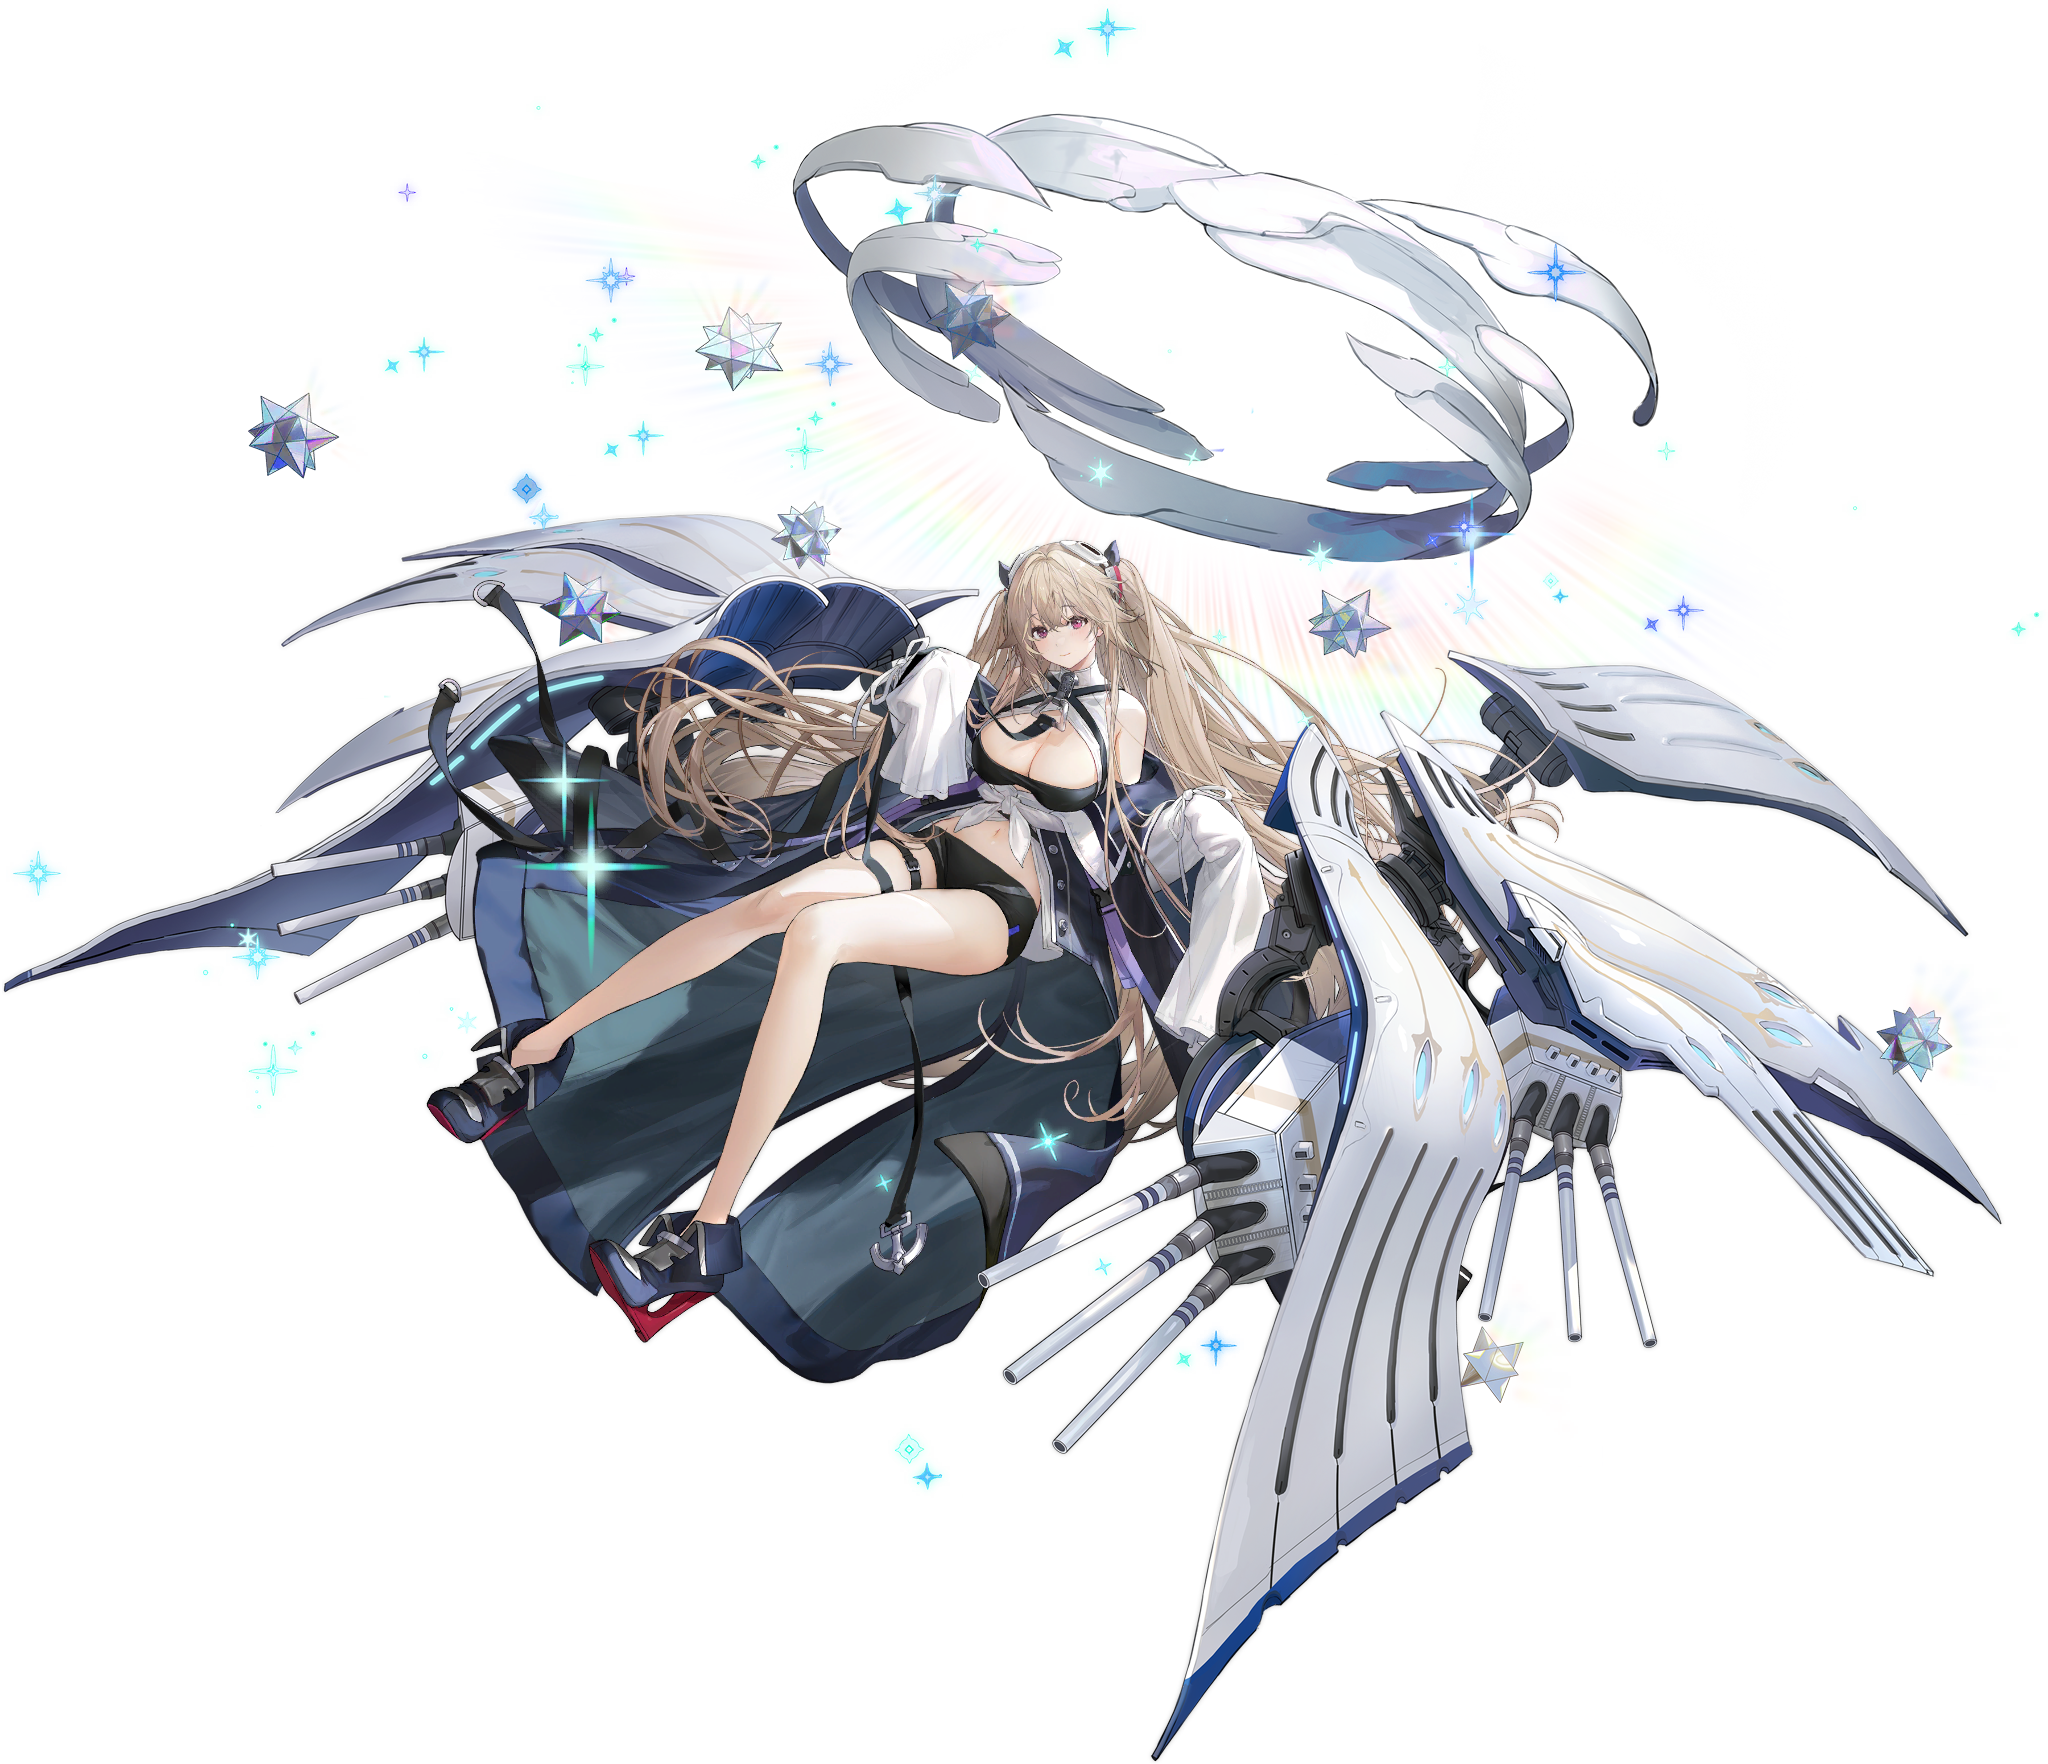person: (723, 537, 1165, 1254)
